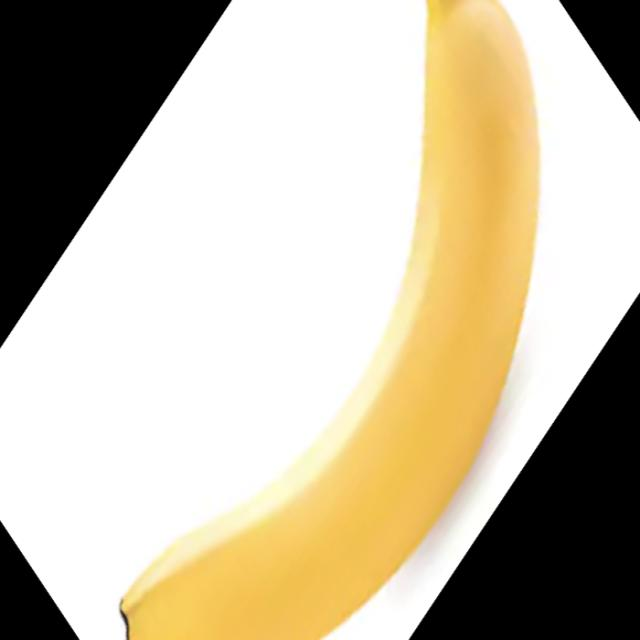god quality banana: (121, 0, 540, 640)
